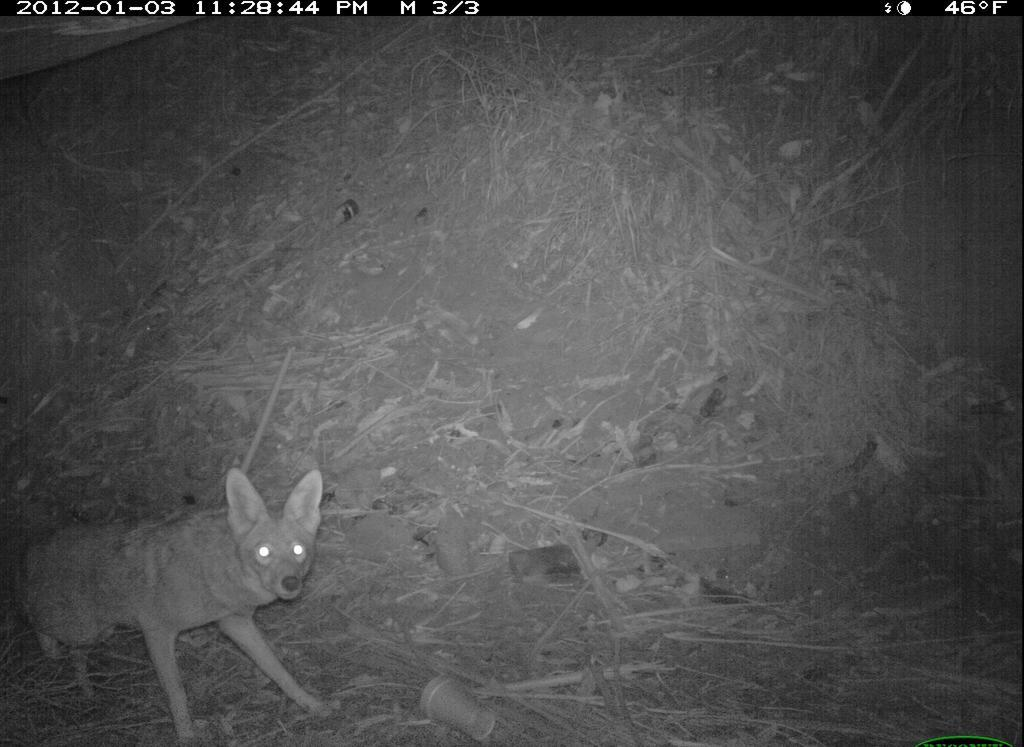coyote: (9, 454, 368, 747)
